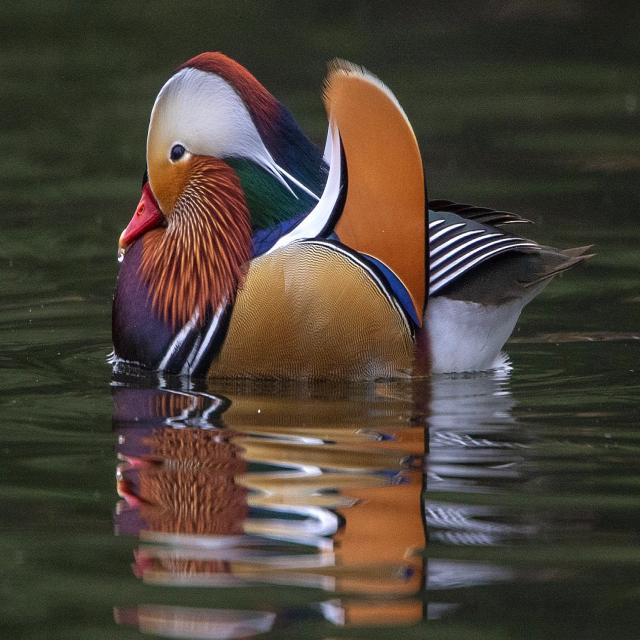duck: (112, 53, 590, 382)
